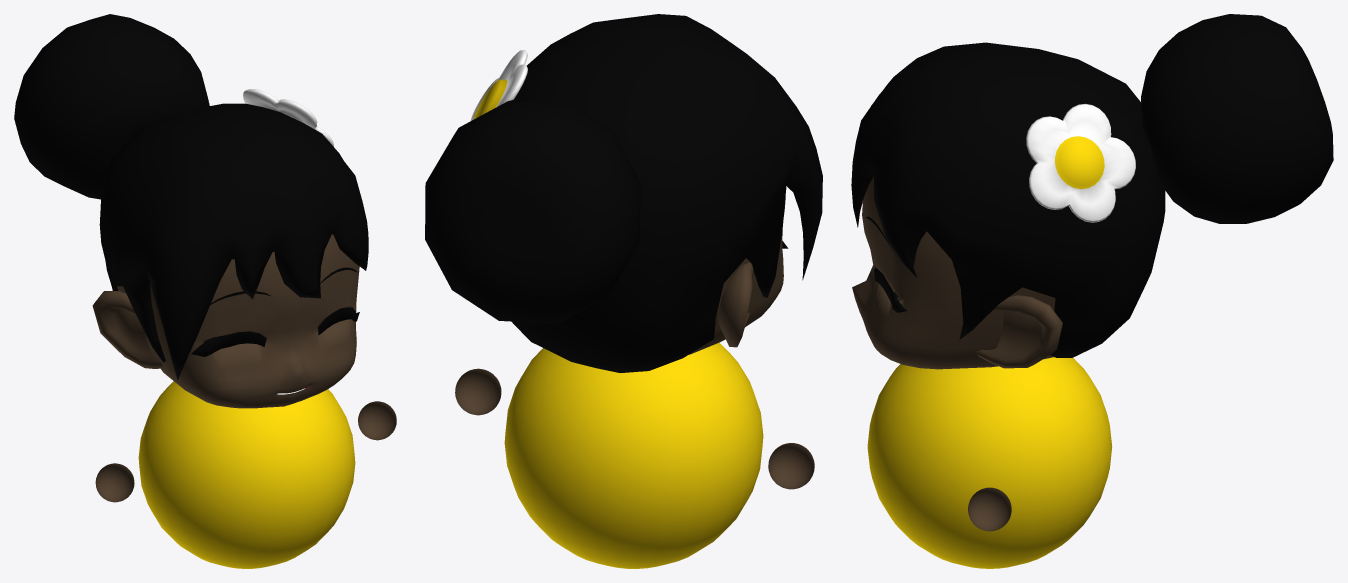
File: mom.glb
3 views of the same model, side by side, from view 1: azimuth 30°, elevation 25°; view 2: azimuth 150°, elevation 25°; view 3: azimuth 270°, elevation 25° (orthographic). The views are drawn at different scales.
Parts seen in each view (by area): view 1: momhair, mom.001, mom.skin, mom.skin.hand.right, mom.skin.hand.left; view 2: momhair, mom.001, mom.skin, mom.skin.hand.right, mom.skin.hand.left; view 3: momhair, mom.001, mom.skin, mom.skin.hand.right.
Boxes of the visible parts, bbox=[...] form: momhair: bbox=[14, 14, 368, 380]; mom.001: bbox=[138, 89, 359, 568]; mom.skin: bbox=[92, 234, 359, 408]; mom.skin.hand.right: bbox=[358, 401, 396, 440]; mom.skin.hand.left: bbox=[95, 463, 134, 502]; momhair: bbox=[425, 14, 822, 372]; mom.001: bbox=[470, 50, 788, 568]; mom.skin: bbox=[689, 197, 785, 354]; mom.skin.hand.right: bbox=[455, 368, 501, 415]; mom.skin.hand.left: bbox=[768, 443, 814, 489]; momhair: bbox=[851, 14, 1333, 357]; mom.001: bbox=[867, 103, 1135, 568]; mom.skin: bbox=[852, 176, 1062, 369]; mom.skin.hand.right: bbox=[968, 487, 1011, 531].
Bounding box in the file's own units: 0.284 × 0.423 × 0.3555.
Materials: 1 (1 with a texture image).
